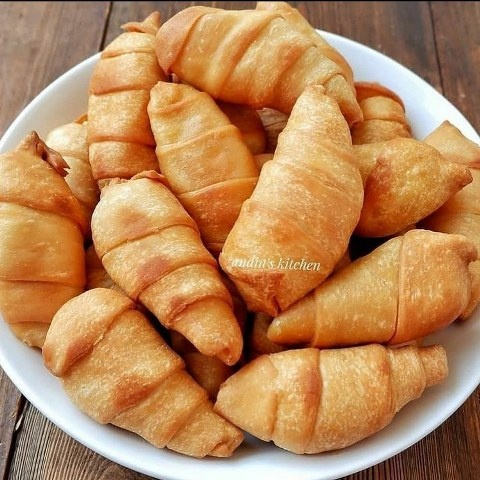pisang_molen: (45, 288, 247, 457), (218, 85, 363, 315), (92, 167, 242, 366), (214, 344, 449, 456), (152, 5, 365, 127), (266, 228, 478, 350), (0, 130, 87, 351)
